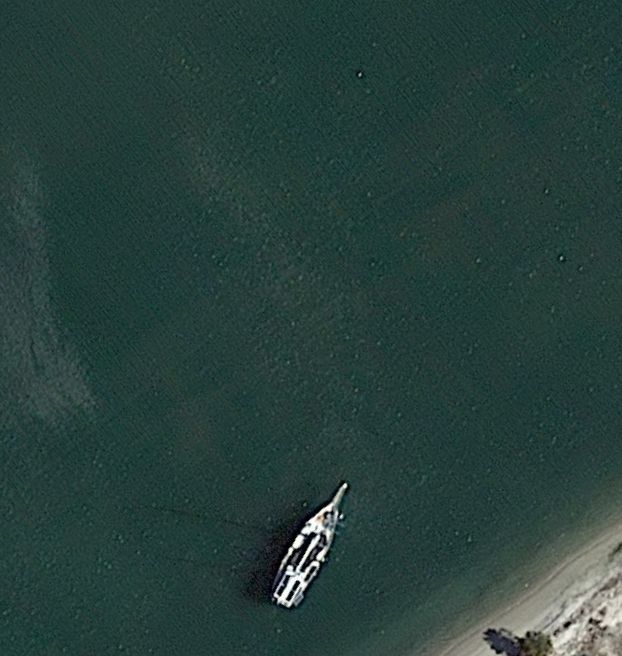boat: (267, 476, 350, 614)
